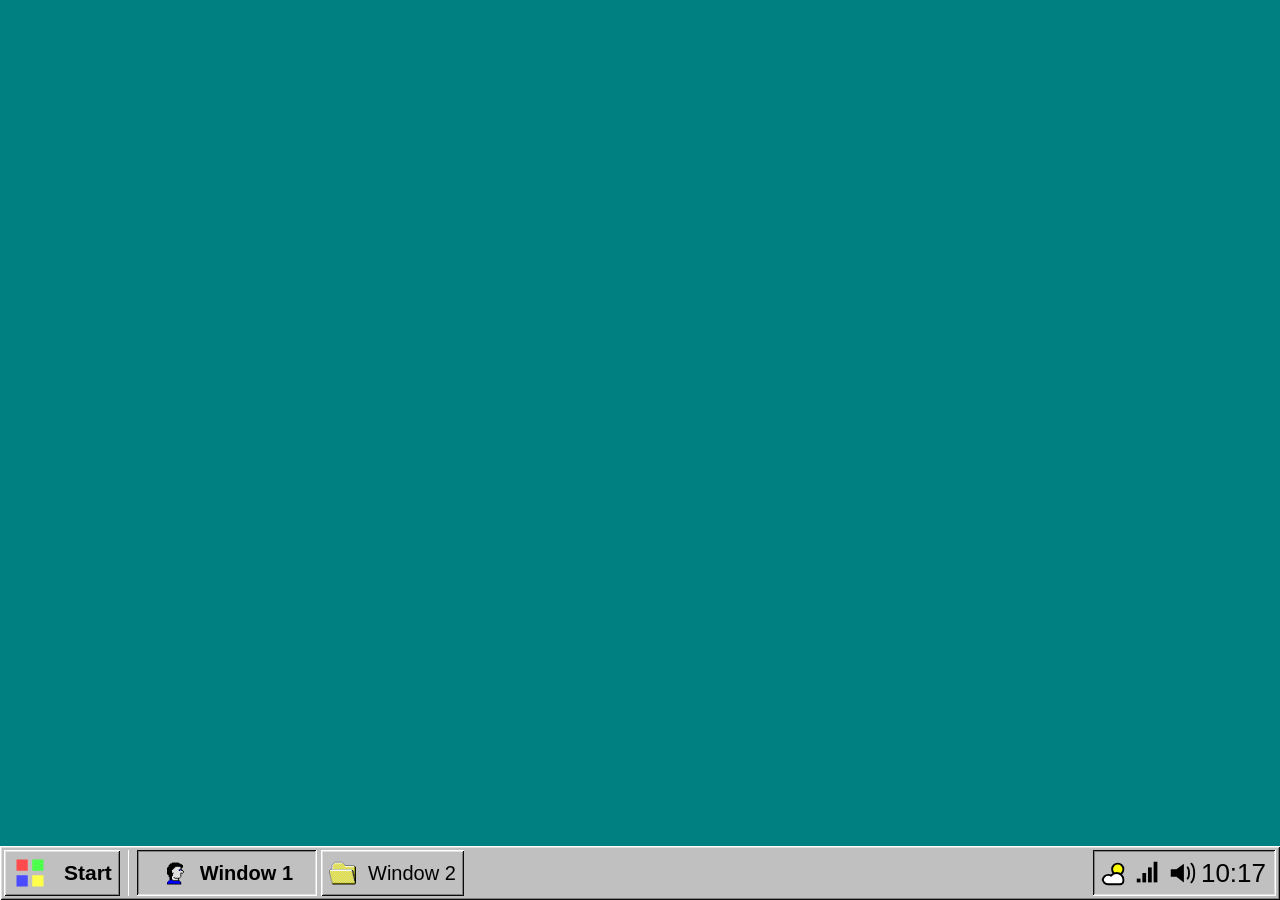
Taskbar › shows Restore option when window is minimized
Expected: the element with test id "taskbar" is shown, [0,846,1279,899]
Right-click the button "Window 2": (392, 873) [321,850,464,896]
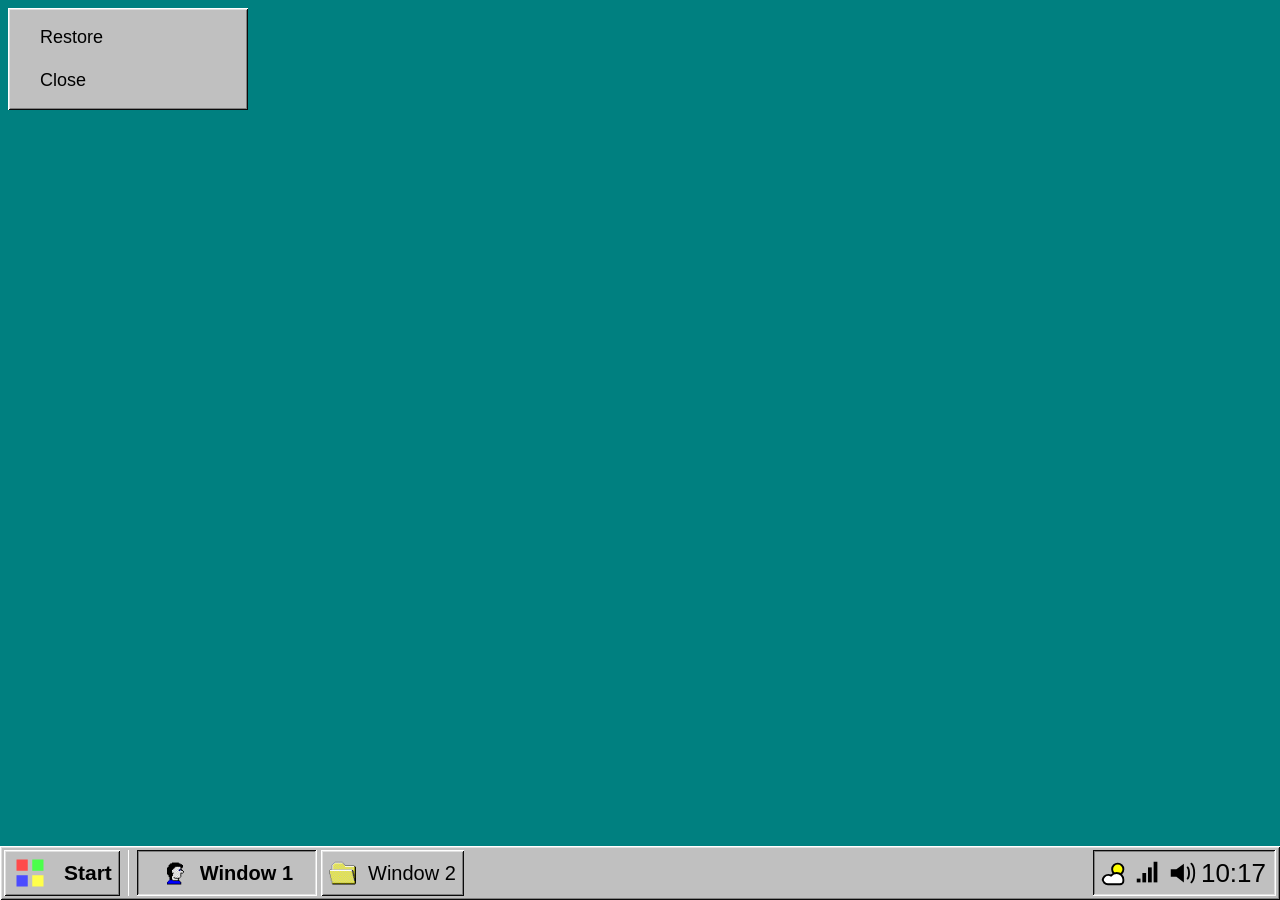
Now the button "Restore" is shown, box [8,16,248,59]
Now the button "Close" is shown, box [8,59,248,102]
